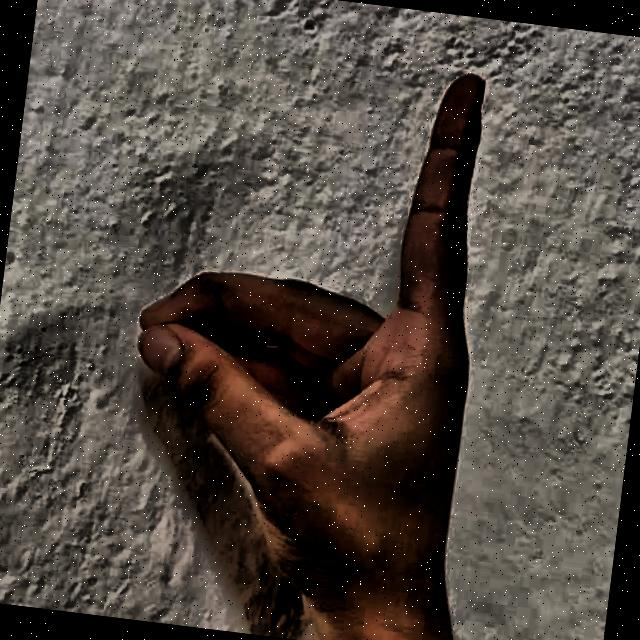Dha: (54, 4, 550, 640)
